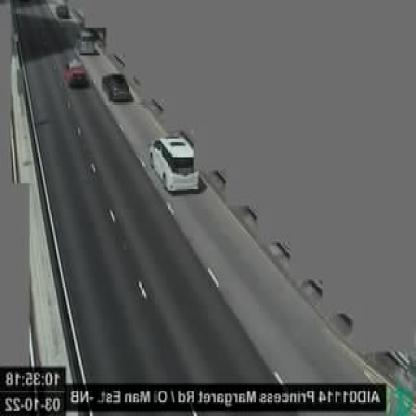Car: (148, 134, 202, 194), (102, 73, 132, 102), (64, 59, 88, 87), (78, 29, 98, 52)
